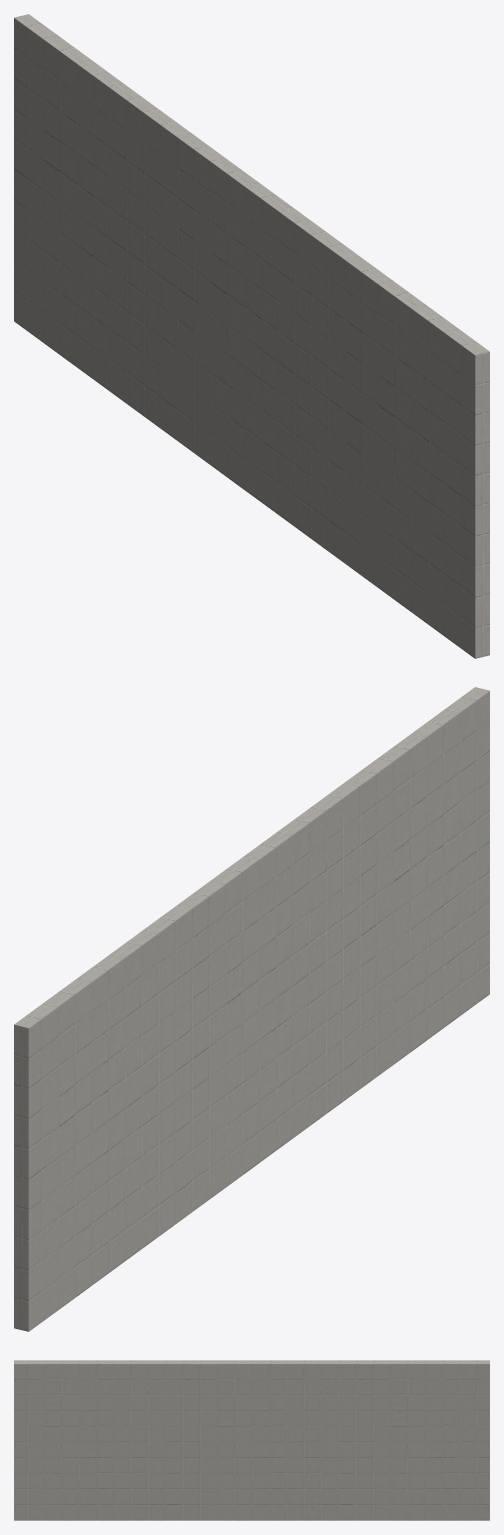
Rendered from souplongwall011.glb.
3 renders of one model, top to bottom at view 1: azimuth 30°, elevation 25°; view 2: azimuth 150°, elevation 25°; view 3: azimuth 270°, elevation 25°, orthographic. The views are drawn at different scales.
Visible parts, largest first — view 1: souplongwall011_high_1; view 2: souplongwall011_high_1; view 3: souplongwall011_high_1.
Boxes of the visible parts, x1,y1,x2,y2 form: souplongwall011_high_1: [14, 14, 489, 658]; souplongwall011_high_1: [14, 687, 489, 1331]; souplongwall011_high_1: [14, 1360, 489, 1520].
Size of the model in its own units: 0.1504 by 2.95 by 8.11.
Materials: 1 (1 with a texture image).
